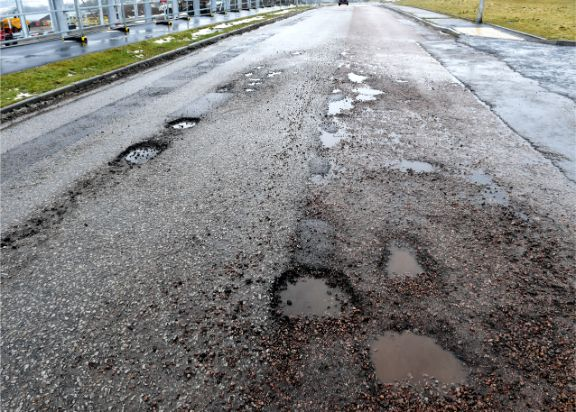pothole: (361, 320, 479, 402), (264, 262, 364, 327), (374, 231, 431, 285), (111, 135, 169, 168), (163, 113, 202, 130)
